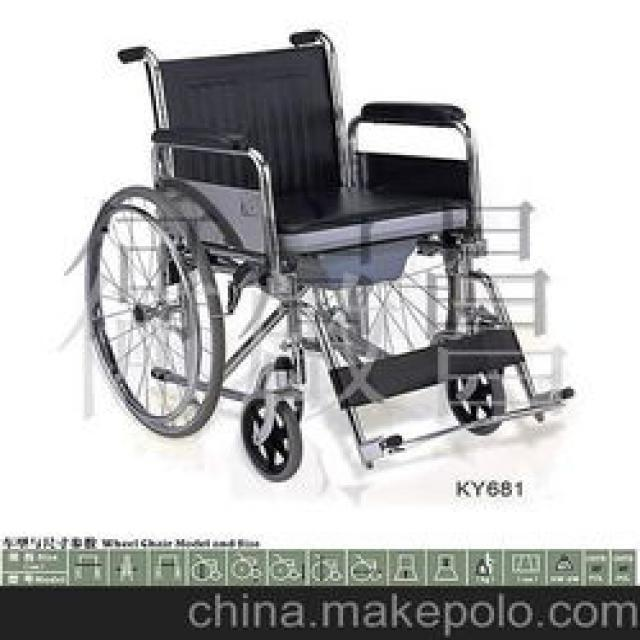wheelchair: (79, 27, 586, 480)
